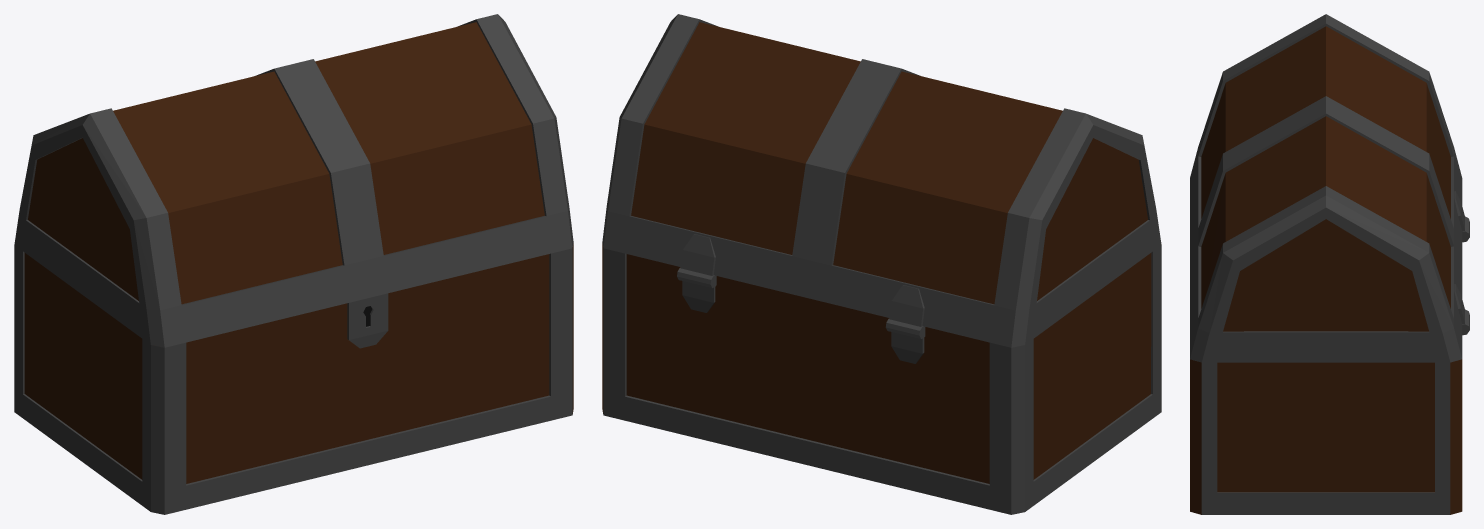
File: Chest_FBX.fbx
3 views of the same model, side by side, from view 1: azimuth 30°, elevation 25°; view 2: azimuth 150°, elevation 25°; view 3: azimuth 270°, elevation 25° (orthographic). The views are drawn at different scales.
Visible parts, largest first — view 1: Chest_Lid001, Chest001; view 2: Chest_Lid001, Chest001, Hinges001; view 3: Chest_Lid001, Chest001, Hinges001.
Part boxes in pixels (x1,y1,x2,y2): Chest_Lid001: [14, 14, 573, 348]; Chest001: [14, 242, 573, 514]; Chest_Lid001: [602, 14, 1161, 347]; Chest001: [602, 242, 1161, 514]; Hinges001: [677, 234, 925, 363]; Chest_Lid001: [1190, 14, 1462, 362]; Chest001: [1190, 359, 1462, 514]; Hinges001: [1454, 191, 1469, 335].
Bounding box in the file's own units: 83.08 × 65.13 × 52.25.
